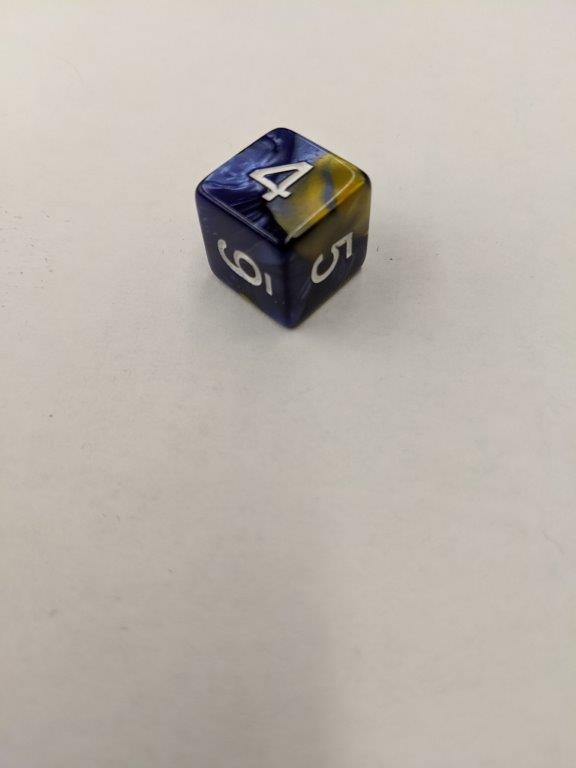d6-4: (195, 126, 373, 329)
